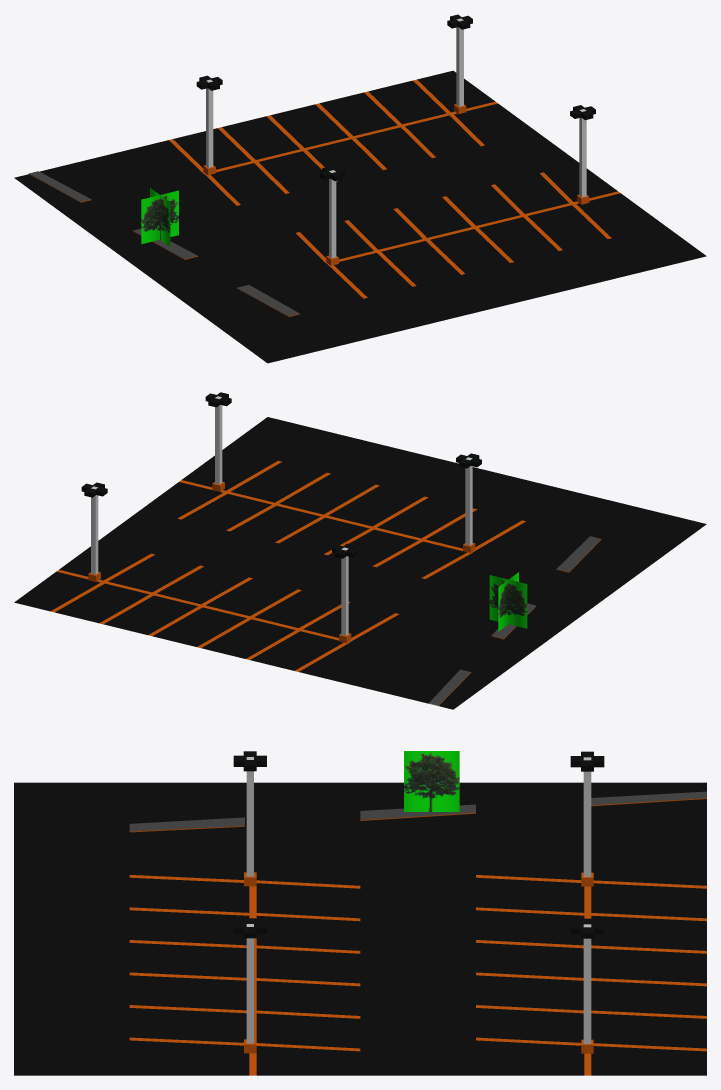
Rendered from 11_gign.obj.
3 renders of one model, top to bottom at view 1: azimuth 30°, elevation 25°; view 2: azimuth 150°, elevation 25°; view 3: azimuth 270°, elevation 25°, orthographic. The views are drawn at different scales.
Parts seen in each view (by area): view 1: 11_gign_Grid.014; view 2: 11_gign_Grid.014; view 3: 11_gign_Grid.014.
Boxes of the visible parts, <box> form: 11_gign_Grid.014: <box>14,14,706,363</box>; 11_gign_Grid.014: <box>14,392,706,709</box>; 11_gign_Grid.014: <box>14,751,706,1075</box>.
Bounding box in the file's own units: 16 × 3.19 × 16.
